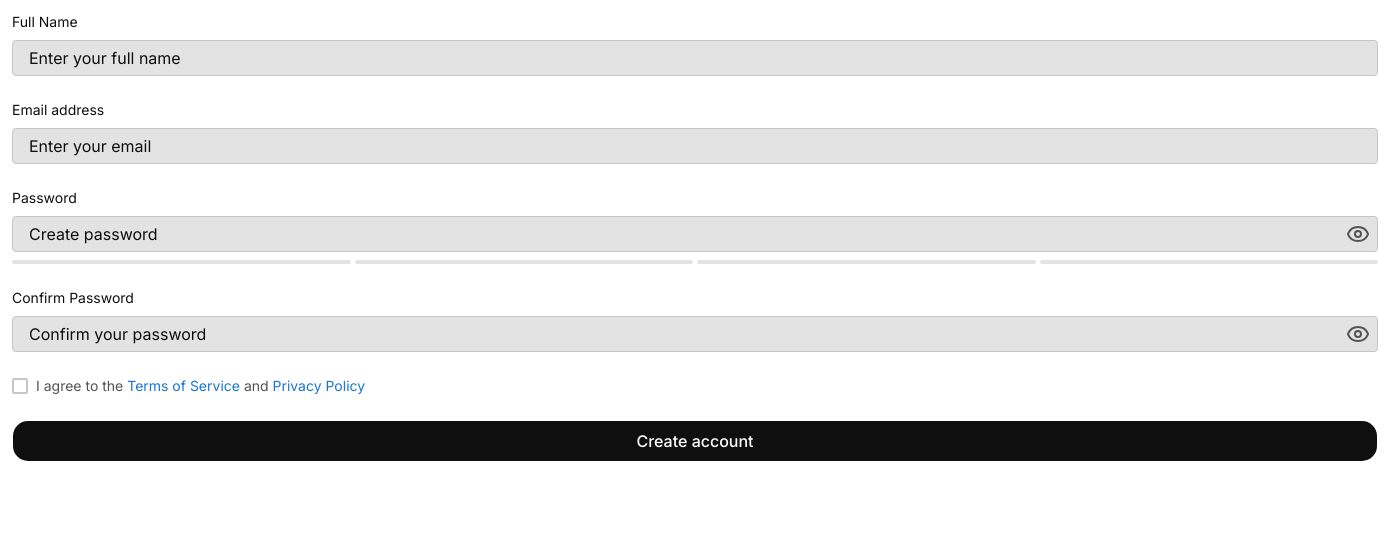
Test case: <SignupForm /> wiring › maps a 400 to a form-level message, not the email field
Step 1. Type "Alice Doe" into the field labelled "Full Name" → (695, 58), box [12,40,1378,76]
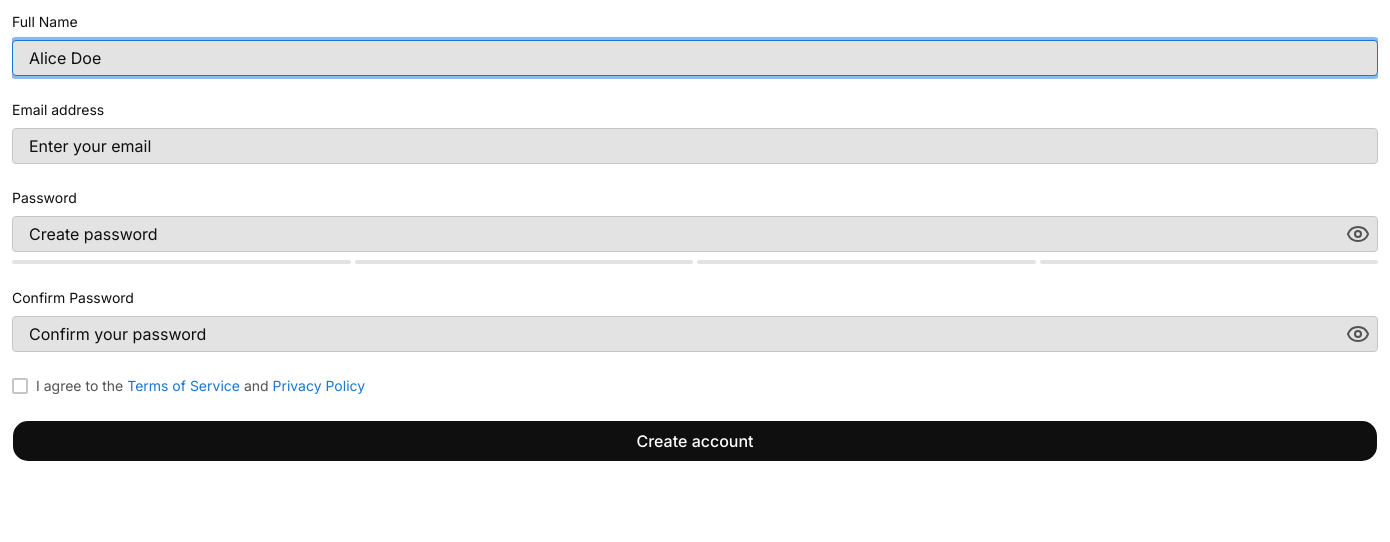
Step 2. Type "alice@example.com" into the field labelled "Email address" → (695, 146), box [12,128,1378,164]
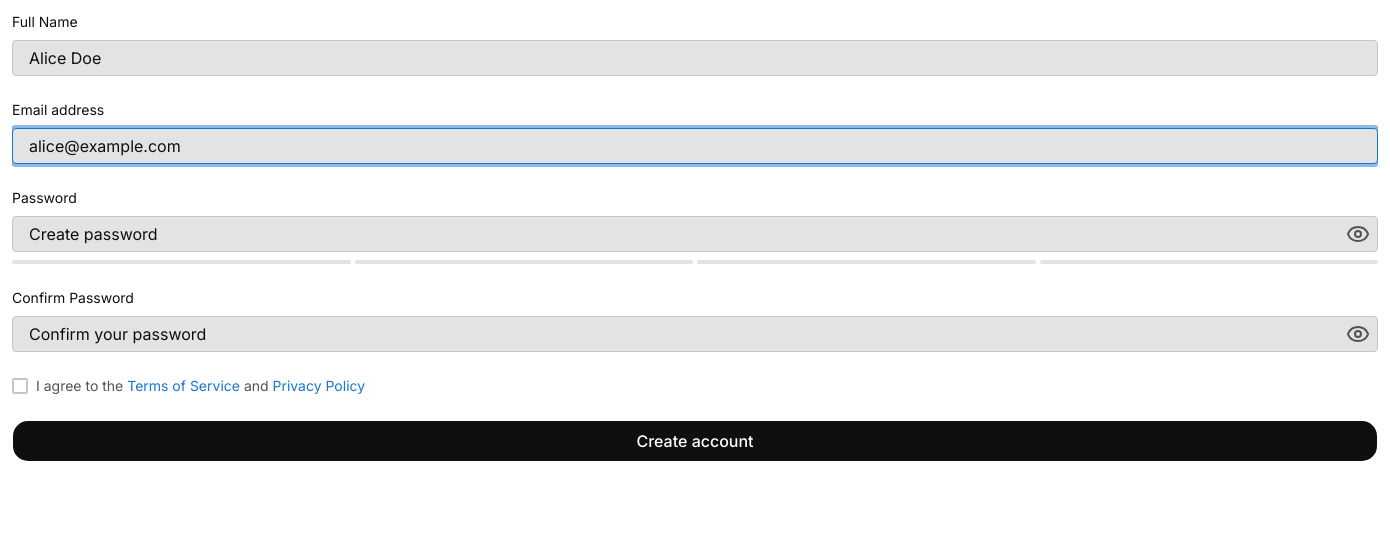
Step 3. Type "Password1" into the password field labelled "Password" → (695, 234), box [12,216,1378,252]
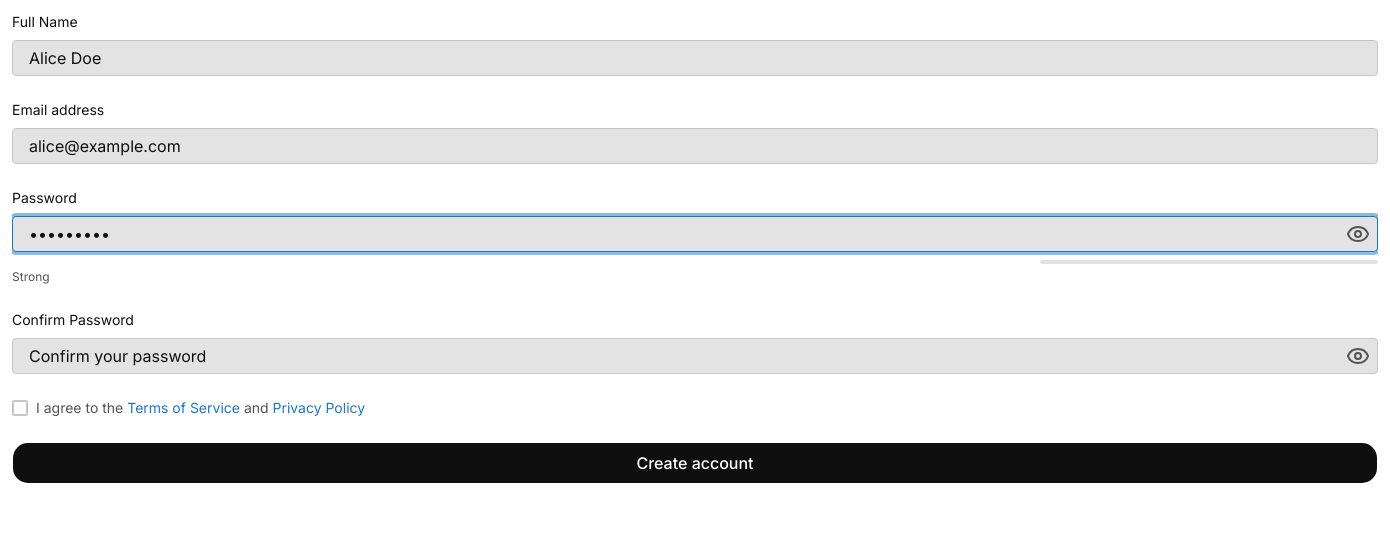
Step 4. Type "Password1" into the password field labelled "Confirm Password" → (695, 356), box [12,338,1378,374]
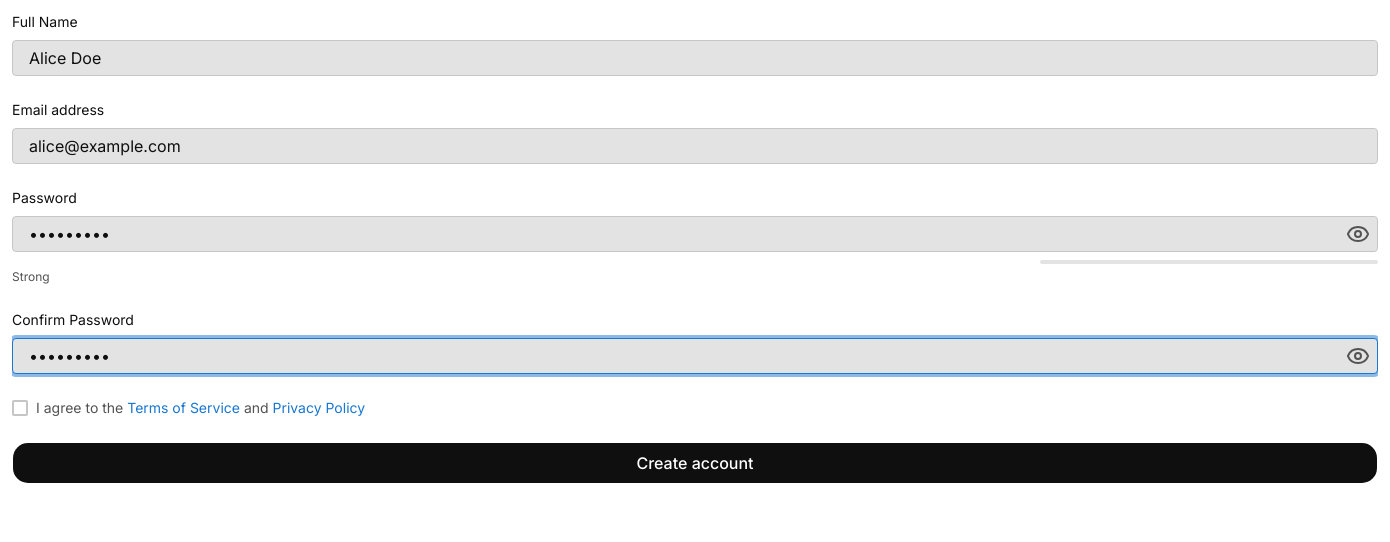
Step 5. Click the checkbox → (20, 408), box [12,400,28,416]
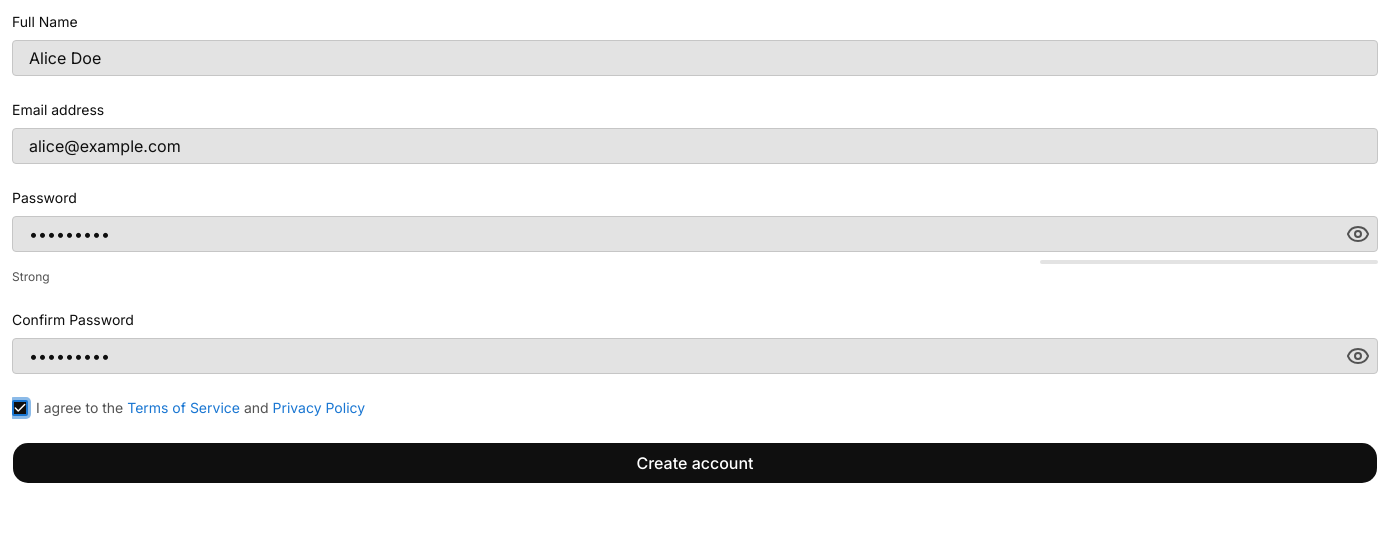
Step 6. Click the button "Create account" → (695, 463), box [12,442,1378,484]
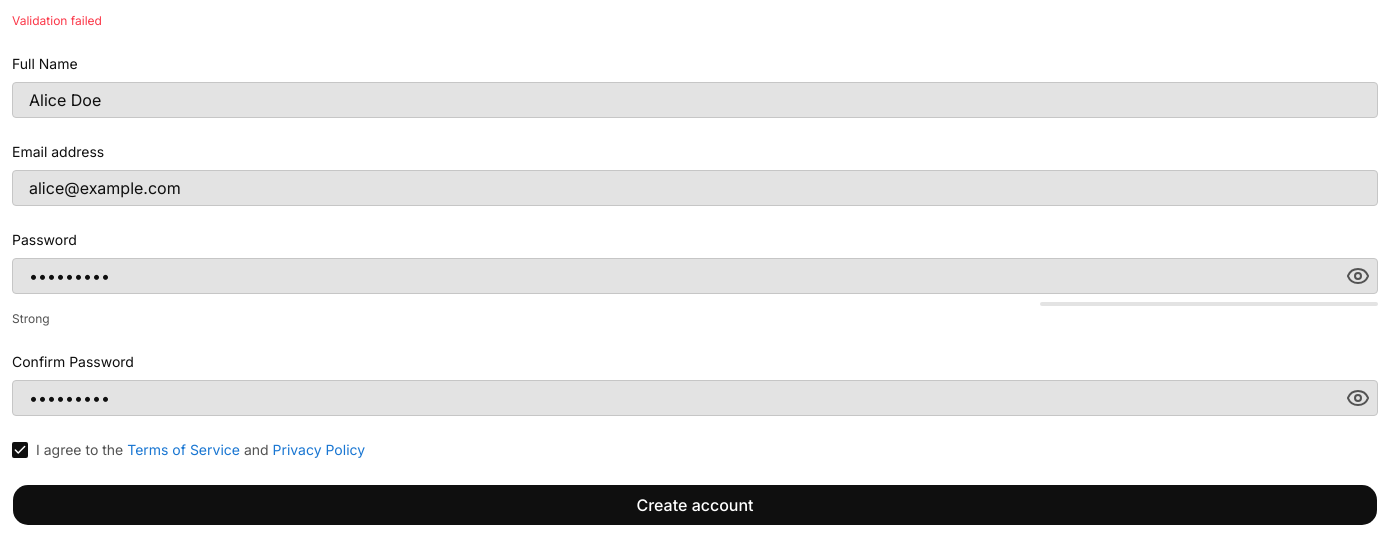
Expected: the message reads "Validation failed", [12,13,102,28]
